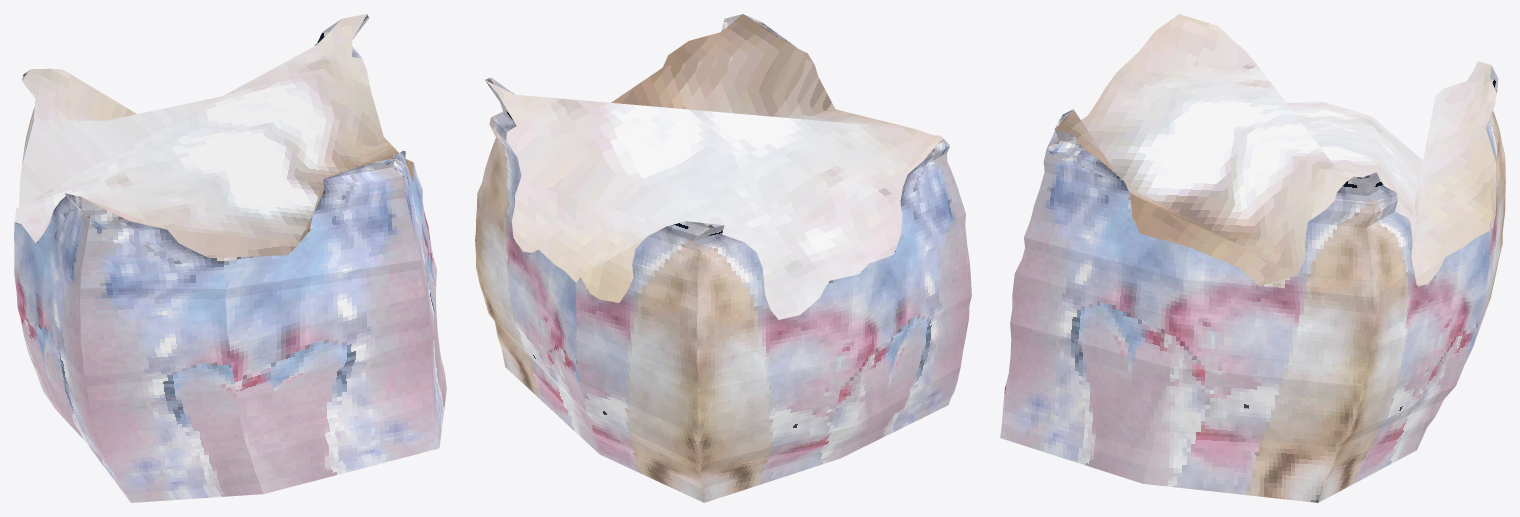
3 views of the same model, side by side, from view 1: azimuth 30°, elevation 25°; view 2: azimuth 150°, elevation 25°; view 3: azimuth 270°, elevation 25° (orthographic). The views are drawn at different scales.
Parts seen in each view (by area): view 1: SPLICE_2; view 2: SPLICE_2; view 3: SPLICE_2.
Boxes of the visible parts, x1,y1,x2,y2 form: SPLICE_2: [14, 14, 446, 502]; SPLICE_2: [475, 14, 971, 502]; SPLICE_2: [1000, 14, 1505, 502].
Bounding box in the file's own units: 1.61 × 1.31 × 1.66.
1 material, 1 textured.
